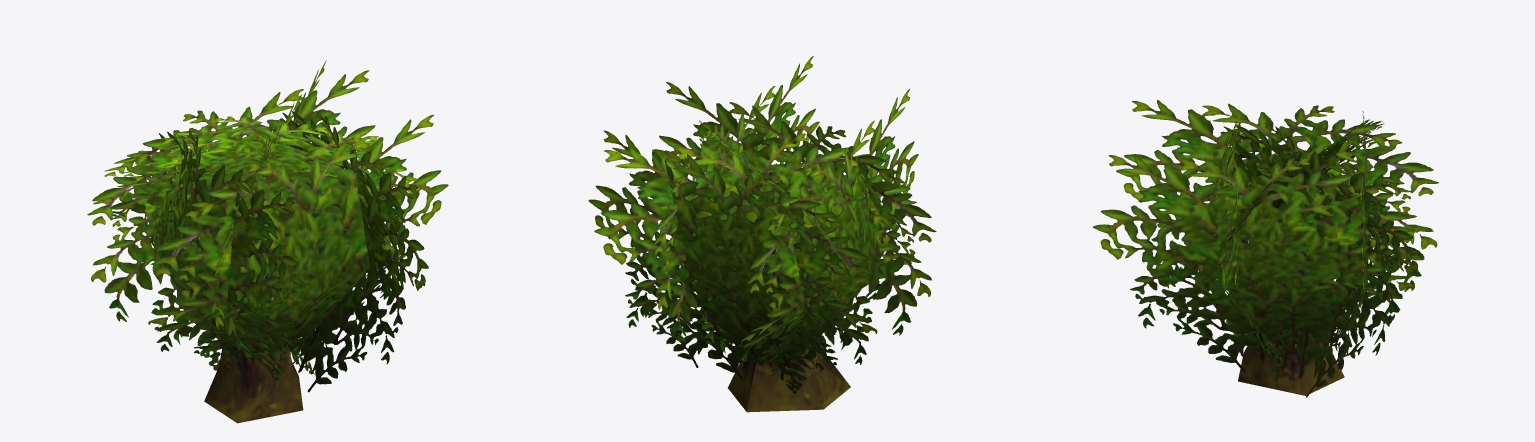
Rendered from tree03_02.FBX.
3 renders of one model, left to right at view 1: azimuth 30°, elevation 25°; view 2: azimuth 150°, elevation 25°; view 3: azimuth 270°, elevation 25°, orthographic. The views are drawn at different scales.
Visible parts, largest first — view 1: SH_Tree01, SH_Tree02; view 2: SH_Tree01, SH_Tree02; view 3: SH_Tree01, SH_Tree02.
Part boxes in pixels (left/top/right/bottom): SH_Tree01: left=87, top=60, right=448, bottom=392; SH_Tree02: left=204, top=240, right=303, bottom=423; SH_Tree01: left=588, top=56, right=936, bottom=393; SH_Tree02: left=728, top=221, right=850, bottom=412; SH_Tree01: left=1093, top=100, right=1438, bottom=397; SH_Tree02: left=1238, top=252, right=1344, bottom=395.
Size of the model in its own units: 1.33 by 0.8426 by 1.39.
Materials: 2 (2 with a texture image).
